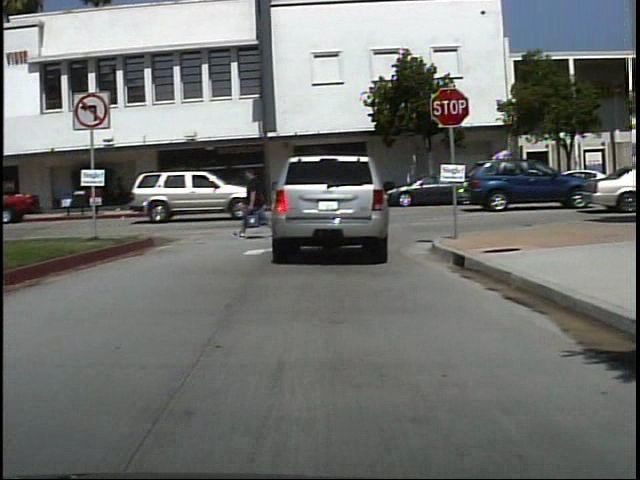person: (240, 160, 275, 238), (112, 171, 136, 211), (139, 172, 158, 209)
